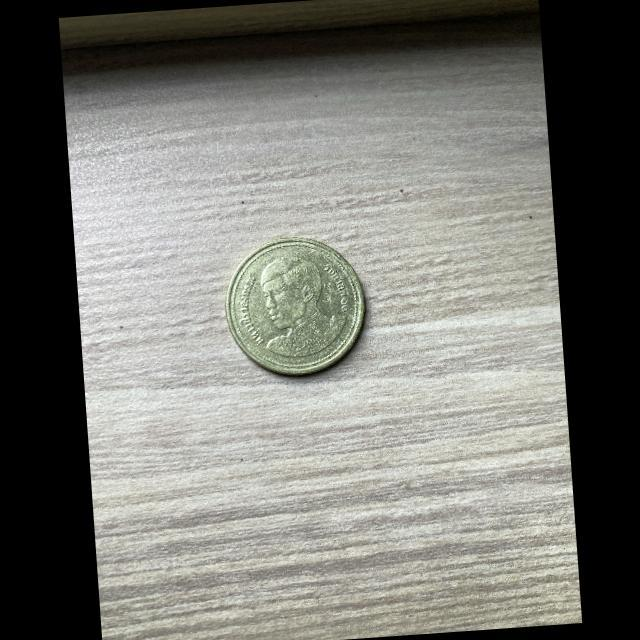2 Bath: (225, 236, 371, 383)
